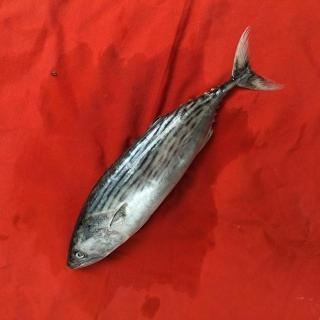Ikan: (66, 25, 289, 271)
